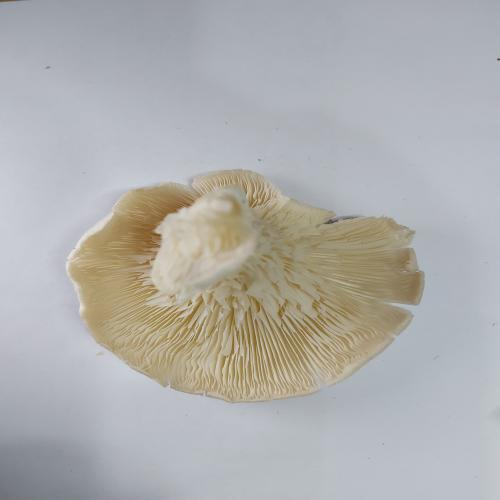Oyster Mushroom: (65, 168, 425, 404)
